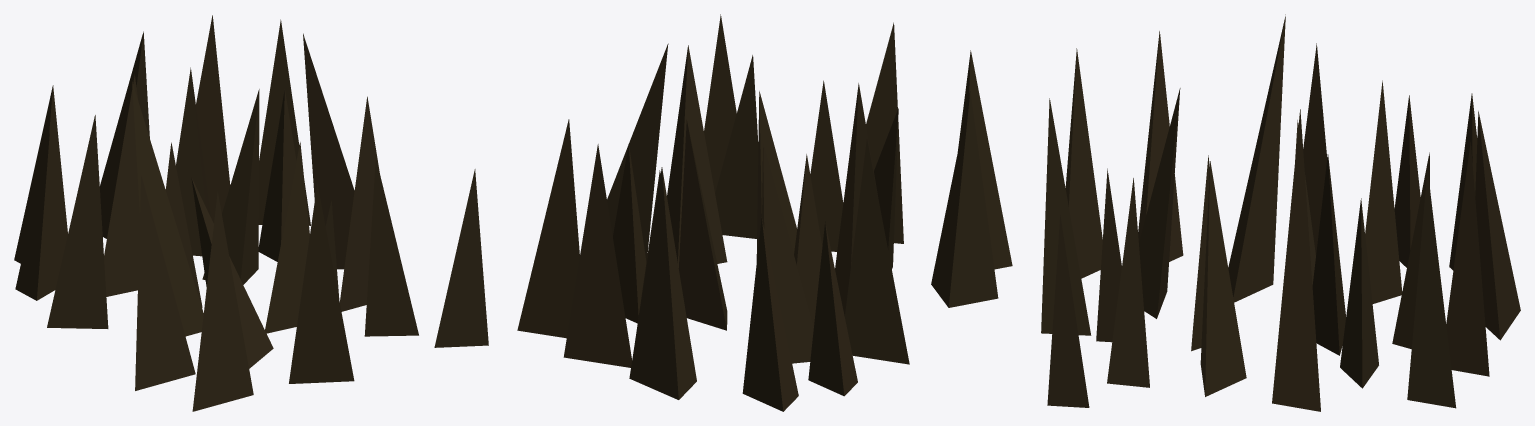
3 renders of one model, left to right at view 1: azimuth 30°, elevation 25°; view 2: azimuth 150°, elevation 25°; view 3: azimuth 270°, elevation 25°, orthographic. The views are drawn at different scales.
Visible parts, largest first — view 1: Plane002; view 2: Plane002; view 3: Plane002.
Part boxes in pixels (left/top/right/bottom): Plane002: left=14, top=15, right=488, bottom=411; Plane002: left=517, top=14, right=1012, bottom=411; Plane002: left=1041, top=14, right=1520, bottom=411.
Bounding box in the file's own units: 1.62 × 1.16 × 1.92.
